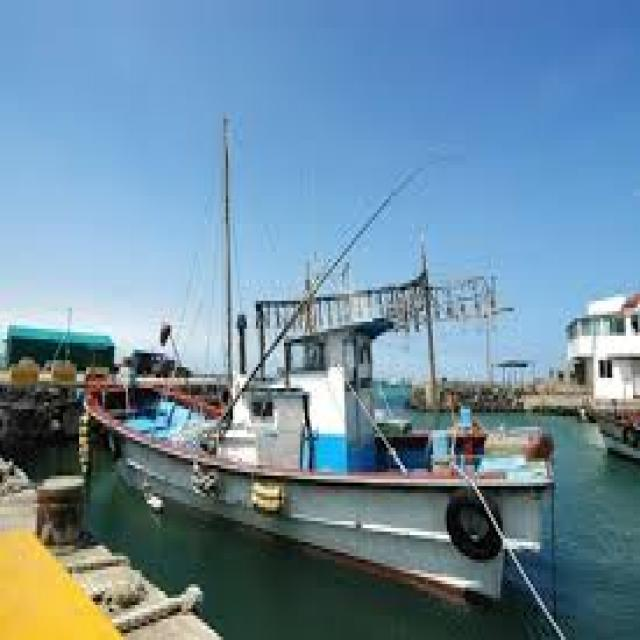Ship: (68, 81, 569, 613)
